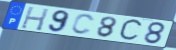8: (143, 21, 166, 45), (96, 16, 118, 39)
9: (48, 9, 72, 34)
C: (117, 18, 144, 42), (70, 13, 96, 36)
H: (19, 6, 50, 32)
